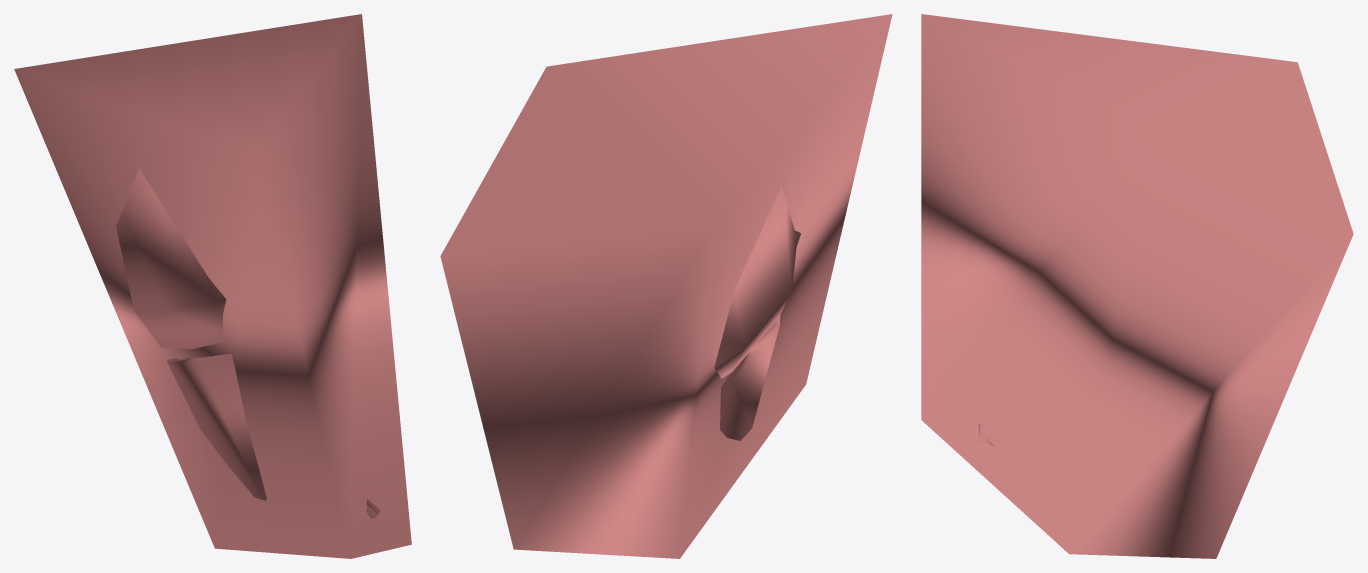
Rendered from pinger_plate_motor_left_scaled.dae.
3 renders of one model, left to right at view 1: azimuth 30°, elevation 25°; view 2: azimuth 150°, elevation 25°; view 3: azimuth 270°, elevation 25°, orthographic. The views are drawn at different scales.
Parts seen in each view (by area): view 1: pinger_plate_motor_left_scaled; view 2: pinger_plate_motor_left_scaled; view 3: pinger_plate_motor_left_scaled.
Part boxes in pixels (x1,y1,x2,y2): pinger_plate_motor_left_scaled: [14, 14, 411, 558]; pinger_plate_motor_left_scaled: [440, 14, 892, 558]; pinger_plate_motor_left_scaled: [921, 14, 1353, 558].
Size of the model in its own units: 0.7822 by 1.29 by 1.46.
